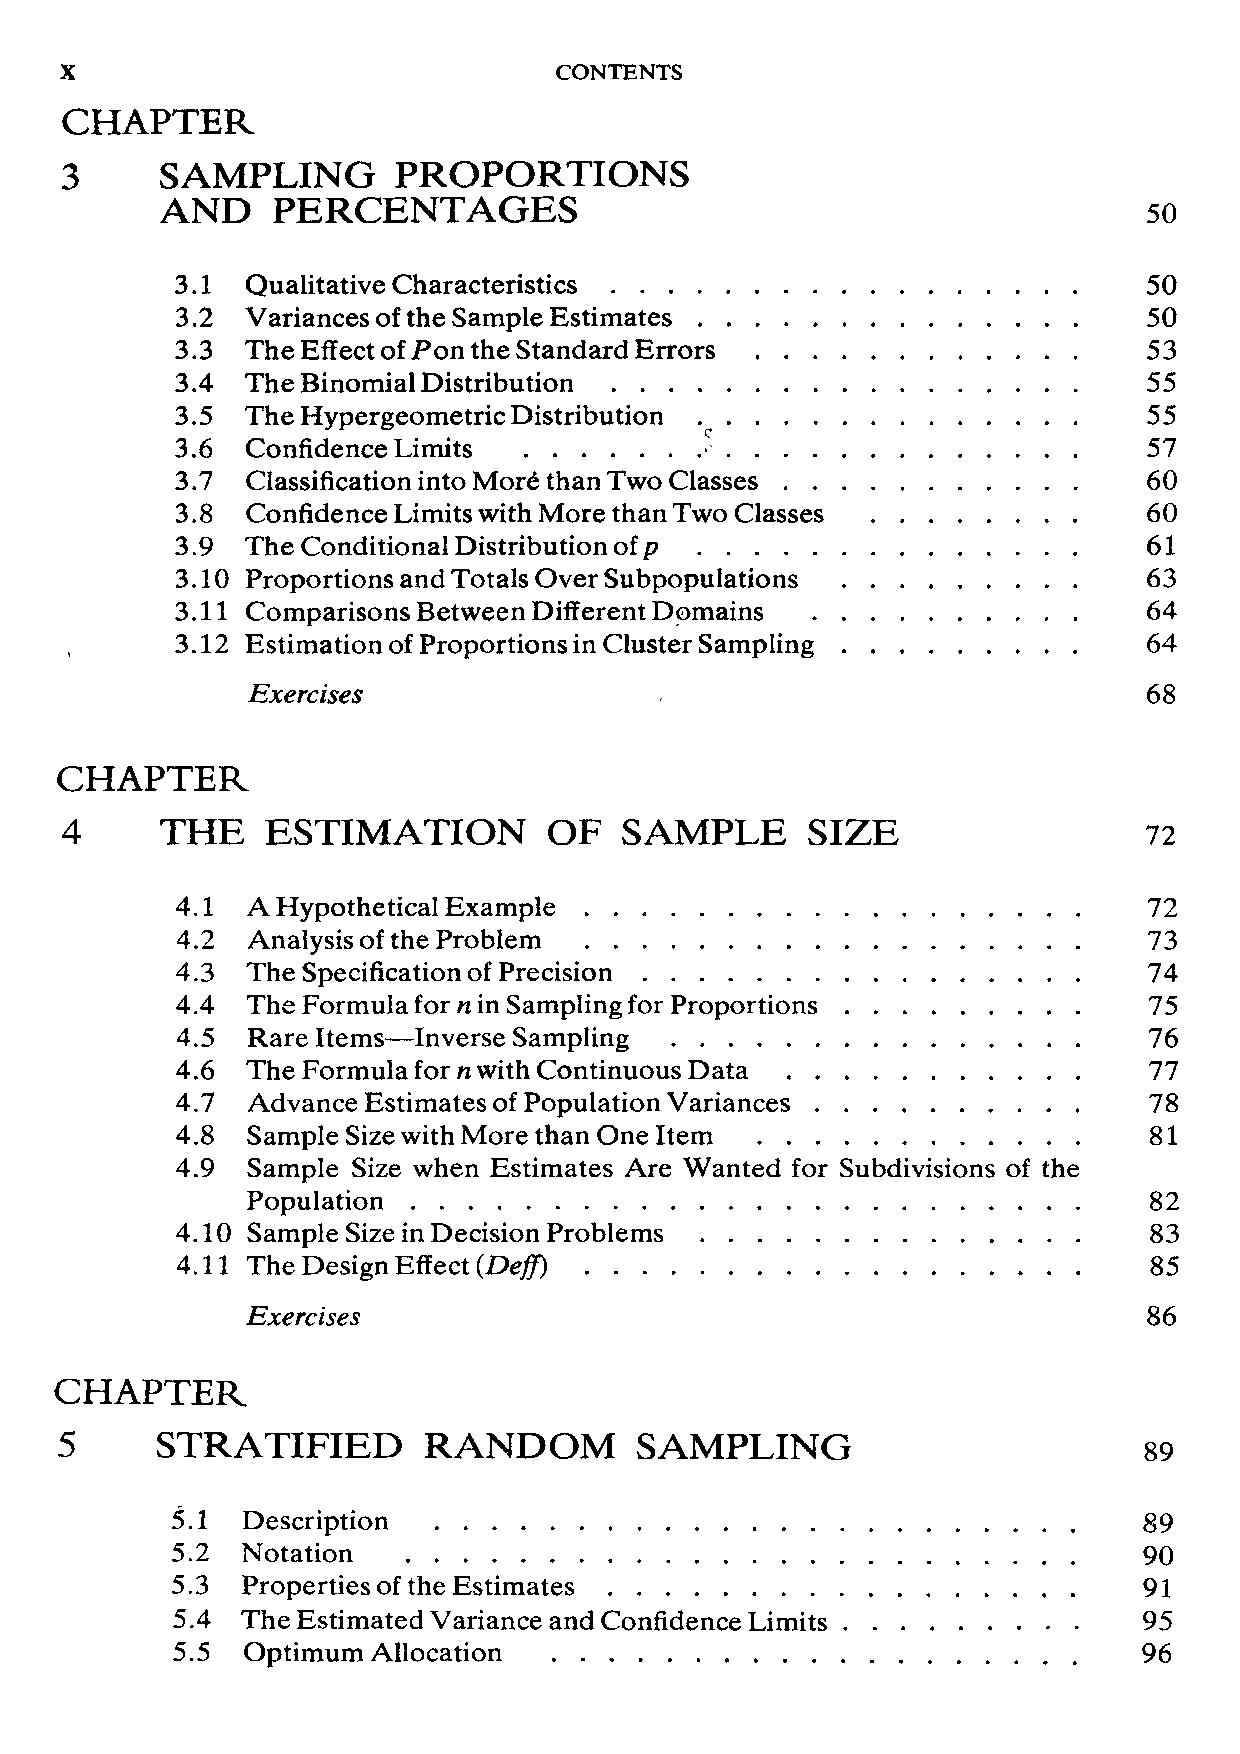TOC_chapter: (56, 94, 696, 235), (56, 760, 903, 851), (52, 1370, 854, 1464), (173, 1154, 1086, 1217), (170, 1606, 831, 1637), (172, 631, 820, 662), (170, 990, 819, 1020), (174, 597, 765, 628), (170, 464, 760, 495), (170, 564, 800, 592), (172, 501, 828, 527), (169, 260, 586, 298), (172, 1057, 753, 1084), (173, 1024, 635, 1057), (174, 336, 718, 364), (172, 531, 662, 562), (173, 303, 675, 331), (170, 888, 560, 925), (173, 401, 670, 429), (170, 1092, 792, 1114), (173, 1122, 717, 1146), (169, 1221, 666, 1247), (170, 1573, 586, 1602), (176, 1253, 549, 1283), (174, 960, 615, 984), (170, 1639, 507, 1669), (174, 370, 574, 396), (170, 432, 476, 462), (172, 929, 548, 951), (166, 1504, 388, 1533), (172, 1541, 358, 1569), (244, 1300, 368, 1335), (246, 680, 365, 705)
TOC_pagenumber: (1142, 193, 1180, 231), (1138, 888, 1180, 921), (1142, 821, 1181, 854), (1141, 267, 1182, 297), (1141, 366, 1184, 395), (1138, 1604, 1176, 1635), (1142, 1184, 1181, 1213), (1138, 1435, 1176, 1464), (1143, 464, 1178, 495), (1142, 301, 1180, 329), (1142, 399, 1180, 427), (1143, 334, 1178, 364), (1143, 676, 1178, 706), (1147, 1121, 1182, 1150), (1139, 1506, 1174, 1535), (1138, 1538, 1173, 1567), (1137, 1573, 1172, 1602), (1147, 1220, 1182, 1248), (1143, 1057, 1181, 1083), (1141, 629, 1180, 654), (1143, 498, 1180, 523), (1143, 926, 1178, 951), (1145, 990, 1180, 1016), (1143, 1304, 1182, 1327), (1147, 1092, 1184, 1117), (1142, 1640, 1176, 1665), (1145, 432, 1174, 460), (1143, 530, 1176, 556), (1147, 1025, 1181, 1049), (1147, 1253, 1182, 1276), (1145, 564, 1176, 589), (1145, 958, 1176, 984), (1143, 597, 1176, 621)
chapter: (545, 51, 687, 87)
